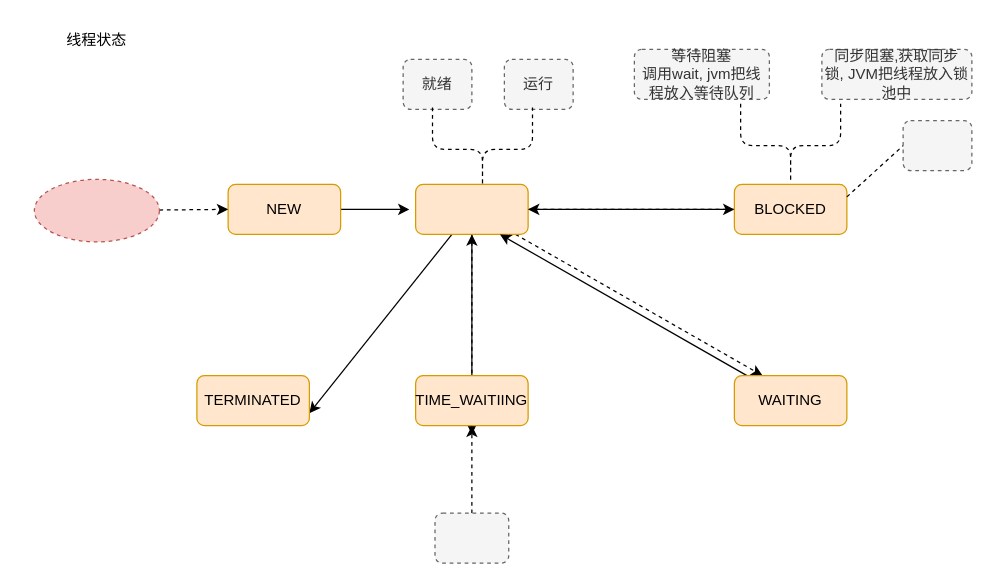
This 994x585 diagram has some shape labels left out. The centre of each missing label's shape, as x and y in pixels:
RUNNABLE: [471,208]
Thread.start: [96,210]
其它阻塞, 如sleep等: [937,145]
超时等待: [471,537]
